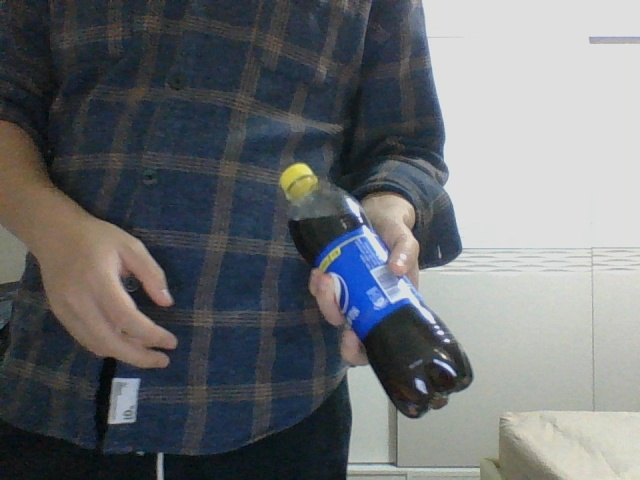Cola: (280, 160, 472, 415)
